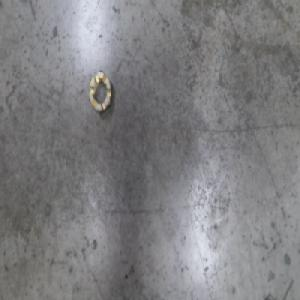Nut: (87, 67, 113, 114)
